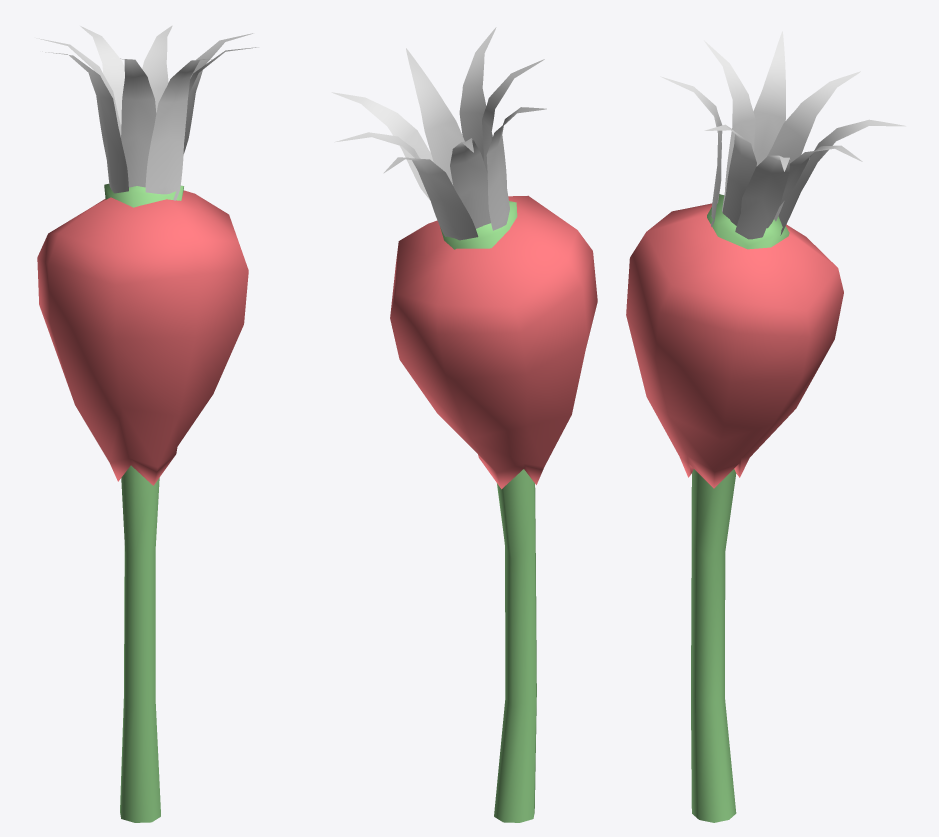
The model's file is StalkFruit.fbx.
3 views of the same model, side by side, from view 1: azimuth 30°, elevation 25°; view 2: azimuth 150°, elevation 25°; view 3: azimuth 270°, elevation 25° (orthographic).
Parts seen in each view (by area): view 1: StalkFruit_Item_LOD0, StalkFruit_Base_LOD0; view 2: StalkFruit_Item_LOD0, StalkFruit_Base_LOD0; view 3: StalkFruit_Item_LOD0, StalkFruit_Base_LOD0.
Boxes of the visible parts, x1,y1,x2,y2 form: StalkFruit_Item_LOD0: [37, 190, 248, 485]; StalkFruit_Base_LOD0: [36, 25, 258, 822]; StalkFruit_Item_LOD0: [390, 195, 597, 489]; StalkFruit_Base_LOD0: [331, 27, 546, 822]; StalkFruit_Item_LOD0: [626, 203, 843, 488]; StalkFruit_Base_LOD0: [660, 31, 905, 822].
Size of what is drawn, in the model's own units: 0.2451 by 0.7315 by 0.2563.
